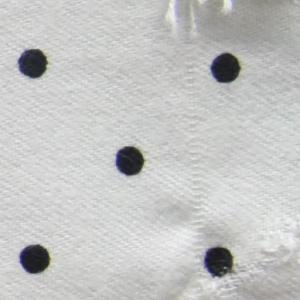Damage: (160, 1, 240, 49)
Wrinkle: (215, 240, 300, 300)
